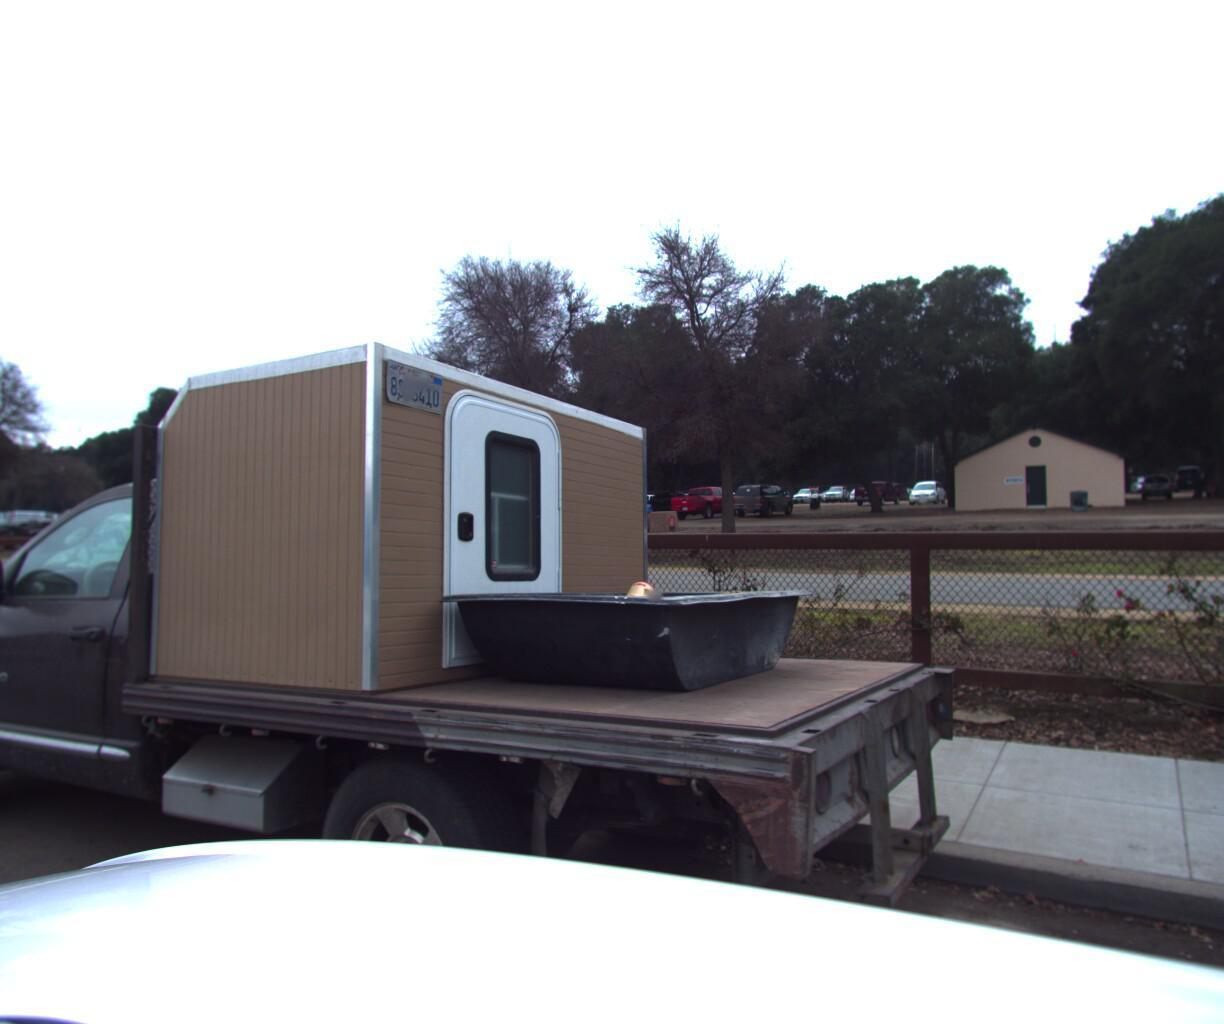car: (0, 232, 985, 1024)
